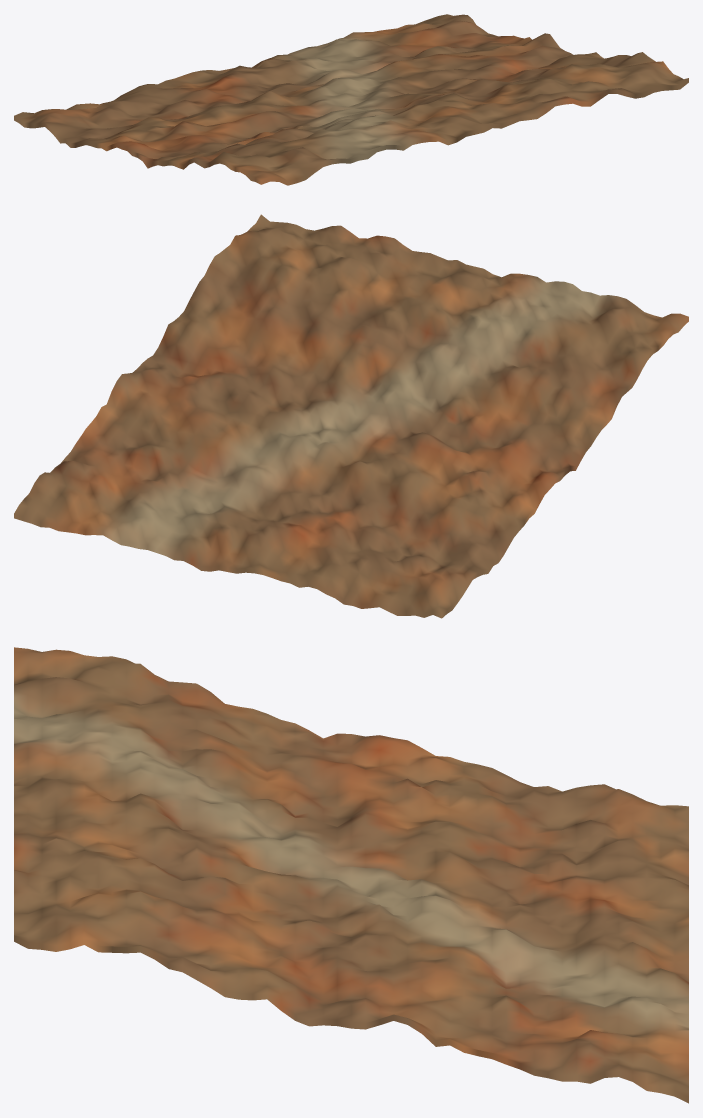
Rendered from terrain-138.glb.
3 views of the same model, one above another, from view 1: azimuth 30°, elevation 25°; view 2: azimuth 150°, elevation 25°; view 3: azimuth 270°, elevation 25° (orthographic). The views are drawn at different scales.
Visible parts, largest first — view 1: terrain-138; view 2: terrain-138; view 3: terrain-138.
Part boxes in pixels (left/top/right/bottom): terrain-138: left=14, top=14, right=688, bottom=185; terrain-138: left=14, top=214, right=688, bottom=618; terrain-138: left=14, top=647, right=688, bottom=1103.
Bounding box in the file's own units: 384 × 119 × 384.
